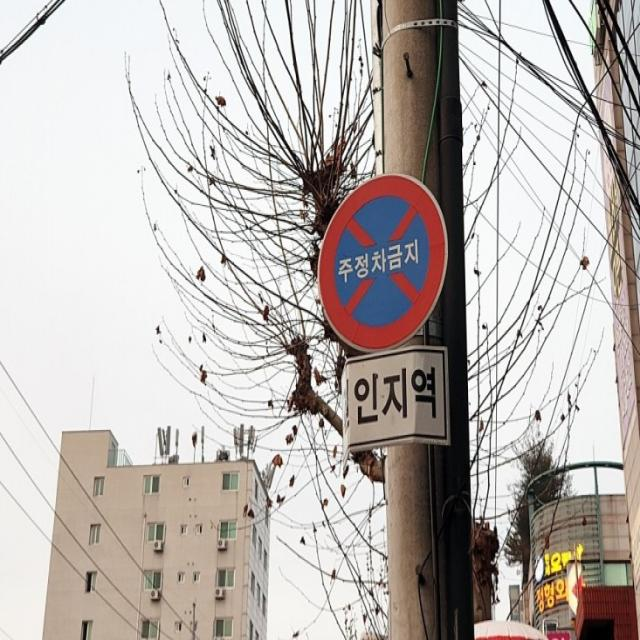regulatory_No_stop_or_parking: (306, 164, 454, 357)
